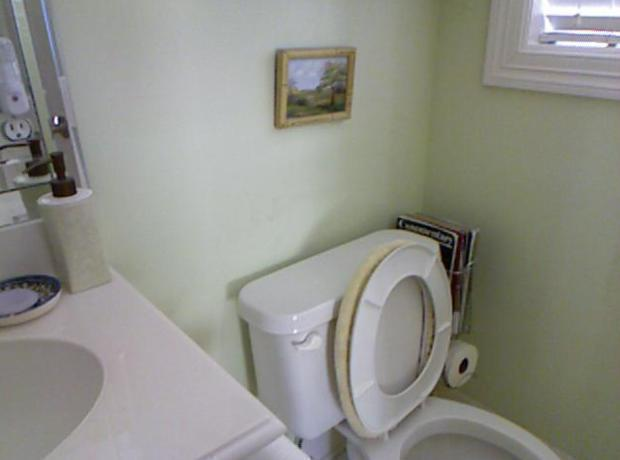Lavamanos: (0, 307, 109, 457)
Sanitario: (238, 227, 563, 459)
